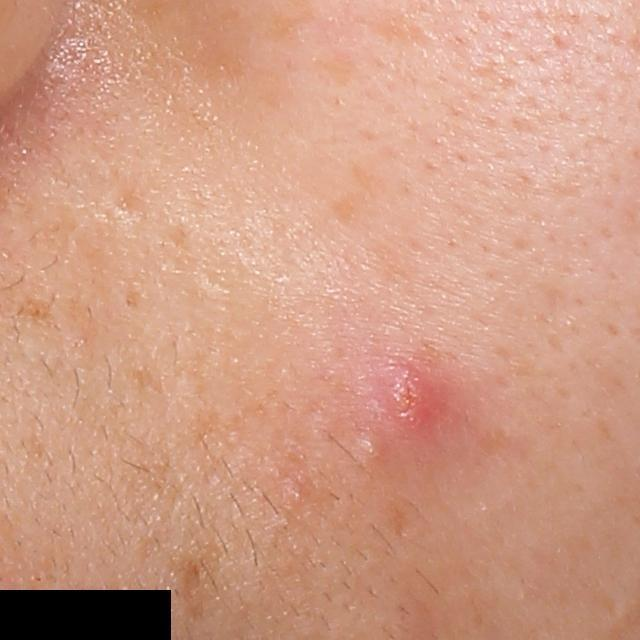comedo: (360, 435, 385, 458)
papule: (396, 366, 448, 439)
